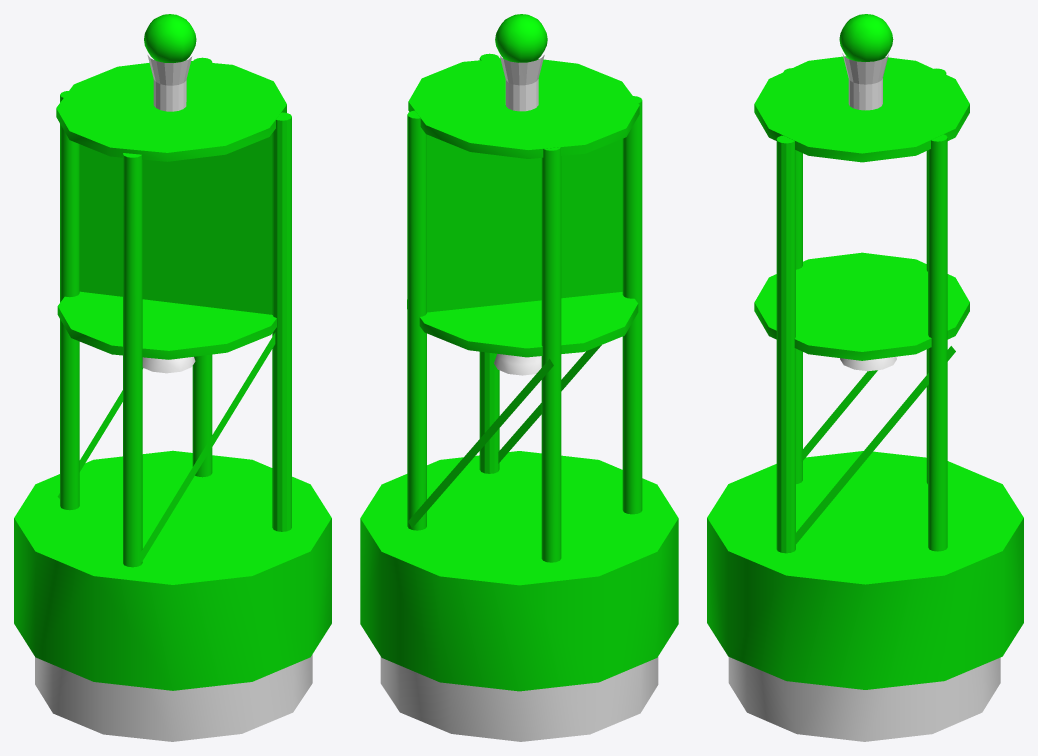
File: buoyG.glb
3 renders of one model, left to right at view 1: azimuth 30°, elevation 25°; view 2: azimuth 150°, elevation 25°; view 3: azimuth 270°, elevation 25°, orthographic.
Bounding box in the file's own units: 0.325 × 0.7532 × 0.325.
